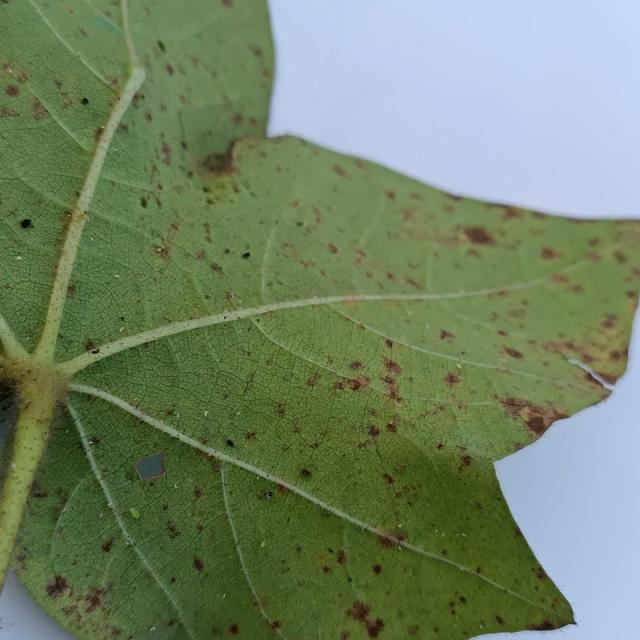Bacterial_Blight: (337, 348, 376, 385), (429, 320, 463, 349), (200, 147, 235, 175), (462, 225, 496, 245), (525, 415, 547, 434), (502, 346, 524, 359), (165, 522, 180, 540), (443, 371, 460, 386), (154, 244, 169, 260), (306, 373, 321, 388), (541, 247, 558, 260), (4, 84, 20, 97), (613, 250, 627, 264), (101, 538, 114, 553), (458, 455, 472, 468), (239, 249, 254, 261), (193, 556, 204, 572), (367, 425, 380, 438), (32, 488, 47, 499), (382, 473, 395, 485), (335, 550, 346, 564), (227, 623, 239, 635), (20, 218, 33, 229), (90, 435, 102, 446), (245, 430, 257, 441), (327, 243, 338, 255), (210, 262, 223, 272), (372, 564, 383, 575), (275, 402, 286, 413), (130, 508, 140, 519), (157, 40, 166, 52), (300, 468, 311, 477), (194, 488, 203, 499), (140, 196, 148, 208), (201, 184, 211, 193), (495, 615, 504, 625), (310, 441, 320, 450), (263, 491, 273, 499), (81, 97, 89, 105), (226, 439, 234, 447), (2, 404, 11, 411), (169, 576, 176, 585), (90, 348, 100, 354), (227, 292, 234, 300), (459, 596, 466, 603), (327, 547, 333, 553), (296, 221, 303, 226), (163, 315, 169, 320), (120, 316, 125, 321), (347, 577, 352, 582), (66, 212, 71, 217), (7, 68, 12, 73), (223, 315, 227, 320), (100, 126, 105, 130), (256, 318, 260, 322), (29, 326, 33, 330)
Cotton: (0, 0, 639, 639)
